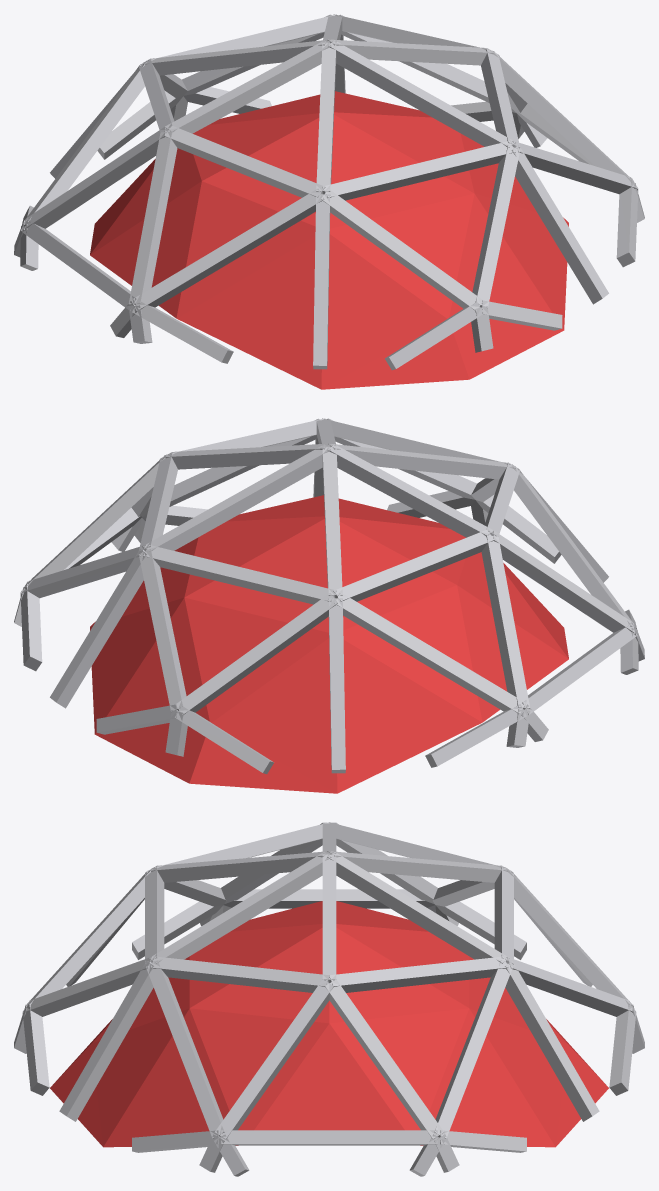
Rendered from vge_e_gravlock_tether_orb.obj.
3 views of the same model, one above another, from view 1: azimuth 30°, elevation 25°; view 2: azimuth 150°, elevation 25°; view 3: azimuth 270°, elevation 25° (orthographic).
Visible parts, largest first — view 1: vge_e_gravlock_tether_orb; view 2: vge_e_gravlock_tether_orb; view 3: vge_e_gravlock_tether_orb.
Boxes of the visible parts, left/top/right/bottom form: vge_e_gravlock_tether_orb: left=14, top=14, right=644, bottom=389; vge_e_gravlock_tether_orb: left=14, top=418, right=644, bottom=793; vge_e_gravlock_tether_orb: left=14, top=822, right=644, bottom=1176.
Size of the model in its own units: 3.02 by 1.29 by 3.16.
